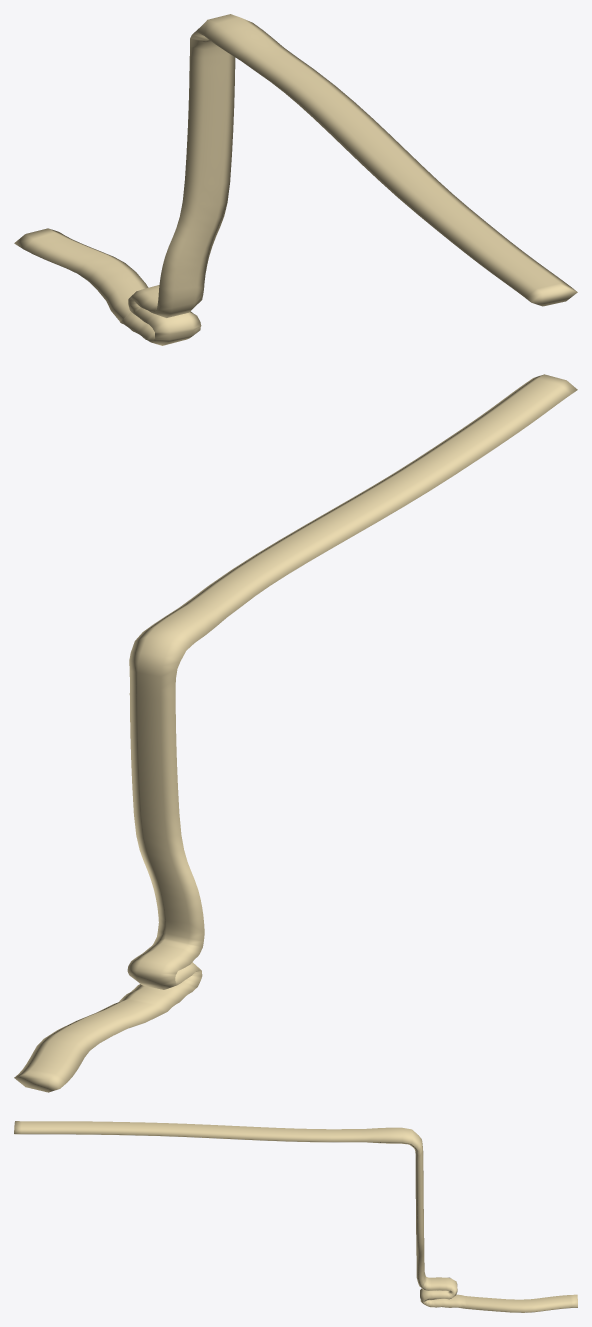
Rendered from LiangpiVertical 1.fbx.
3 views of the same model, one above another, from view 1: azimuth 30°, elevation 25°; view 2: azimuth 150°, elevation 25°; view 3: azimuth 270°, elevation 25° (orthographic). The views are drawn at different scales.
Parts seen in each view (by area): view 1: BezierCurve.009; view 2: BezierCurve.009; view 3: BezierCurve.009.
Boxes of the visible parts, x1,y1,x2,y2 form: BezierCurve.009: (14,14,577,345); BezierCurve.009: (14,374,577,1092); BezierCurve.009: (14,1121,577,1312).
Bounding box in the file's own units: 105 × 421 × 1175.
